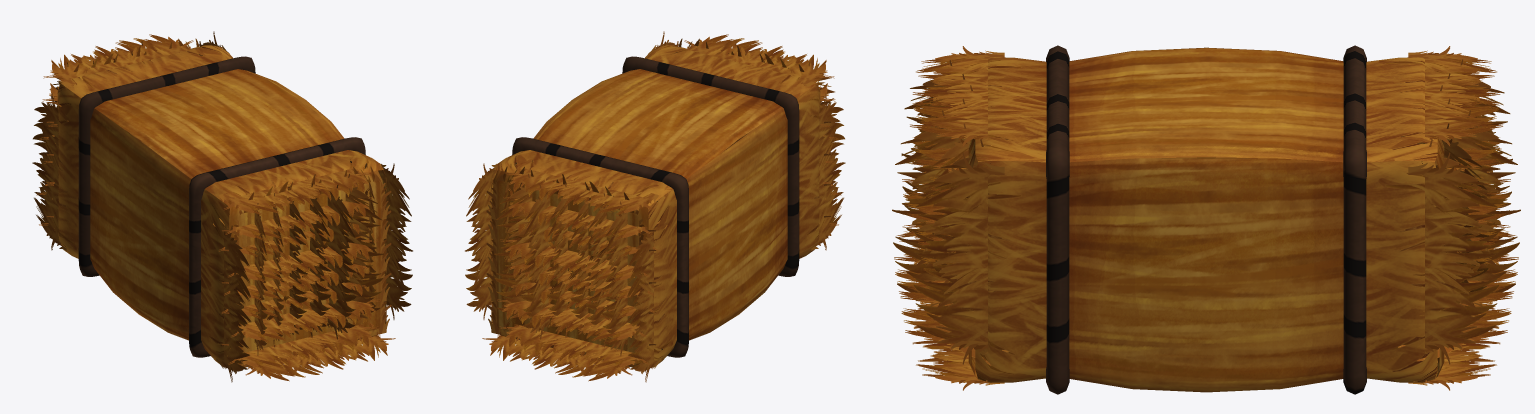
The model's file is HayBale.fbx.
3 views of the same model, side by side, from view 1: azimuth 30°, elevation 25°; view 2: azimuth 150°, elevation 25°; view 3: azimuth 270°, elevation 25° (orthographic). The views are drawn at different scales.
Parts seen in each view (by area): view 1: polySurface57; view 2: polySurface57; view 3: polySurface57.
Boxes of the visible parts, left/top/right/bottom form: polySurface57: left=32, top=31, right=412, bottom=382; polySurface57: left=465, top=31, right=845, bottom=382; polySurface57: left=892, top=45, right=1520, bottom=394.
Bounding box in the file's own units: 14.95 × 13.01 × 28.73.
1 material, 1 textured.
